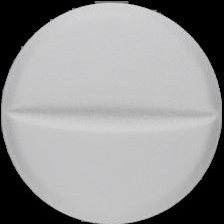0615-5592: (0, 0, 224, 224)
